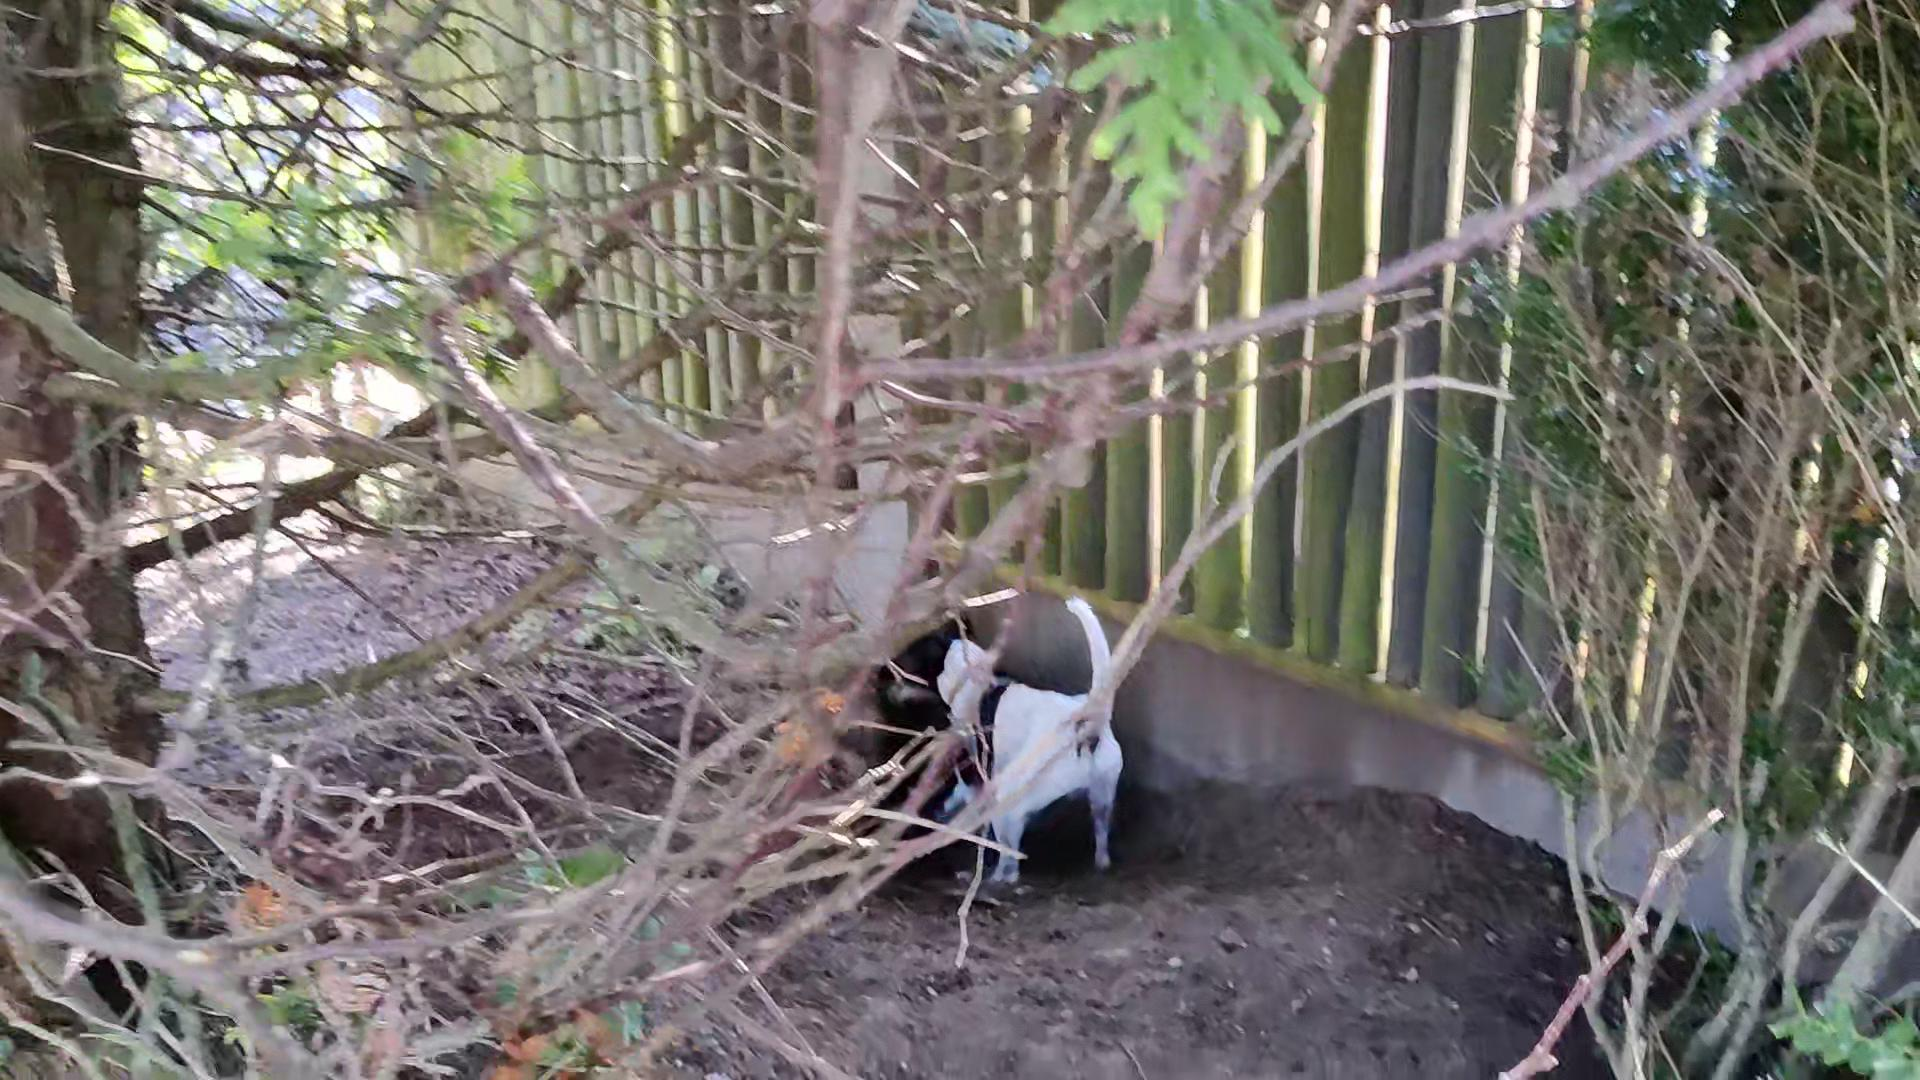Dog: (876, 568, 1138, 897)
